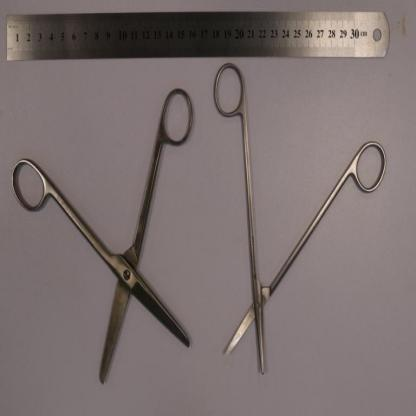7 Metzenbaum Scissors: (213, 61, 387, 375)
Dressing Scissors: (10, 87, 194, 387)
